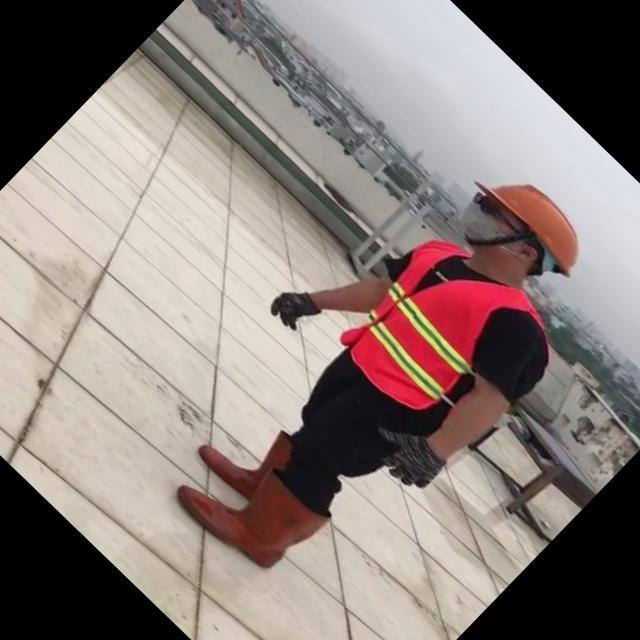hard_hat: (469, 150, 600, 280)
safety_vest: (329, 222, 532, 426)
vehicle: (110, 95, 640, 635)
work_boots: (170, 432, 327, 588), (193, 398, 330, 534)
